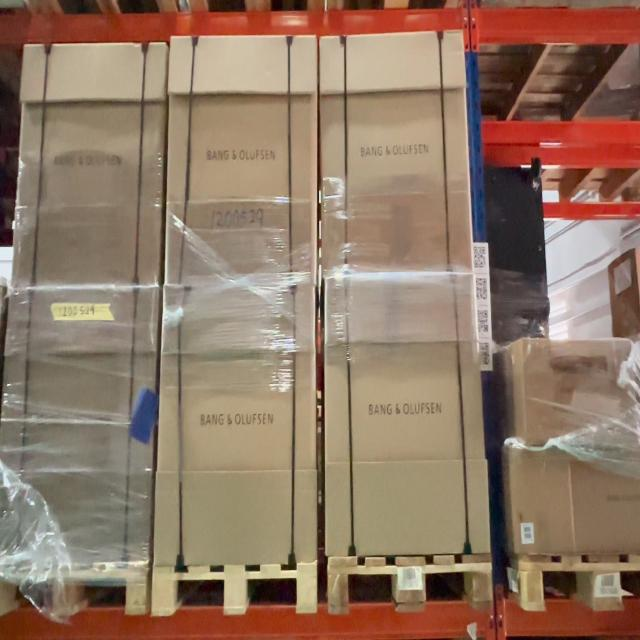box: (153, 286, 324, 561), (331, 280, 471, 559), (167, 32, 309, 276), (321, 27, 460, 274), (12, 302, 147, 548), (11, 50, 161, 269)
